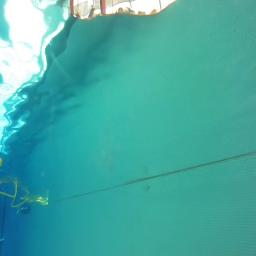Full: (19, 206, 32, 212)
